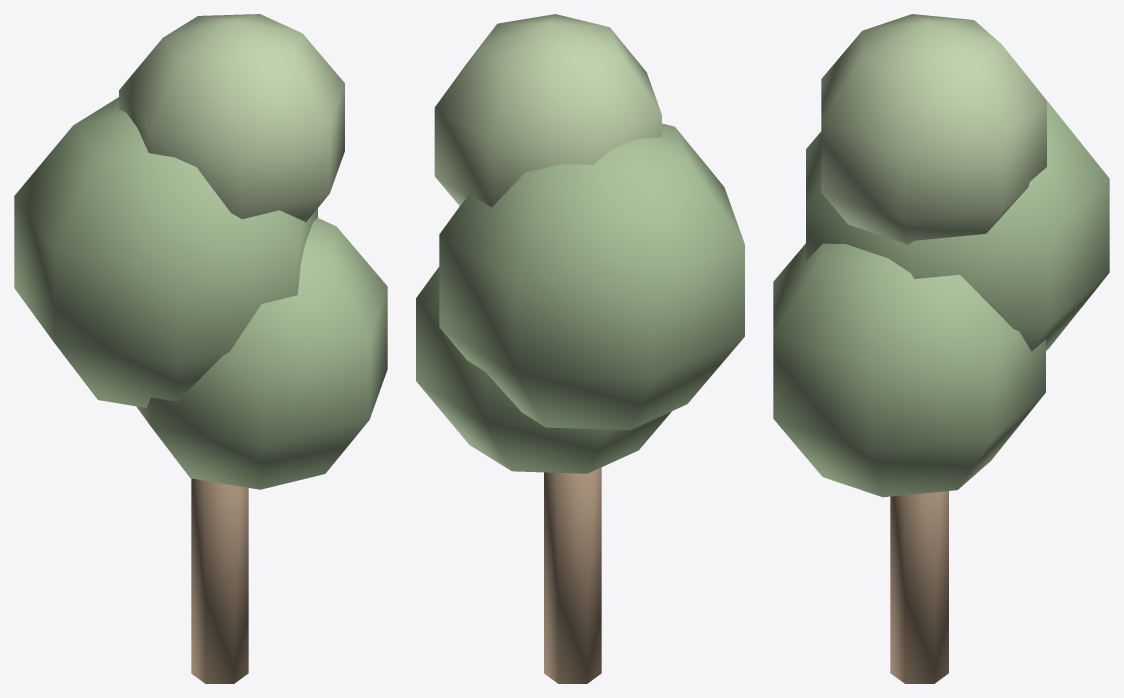
The model's file is tree.glb.
The picture shows the model from 3 angles, left to right: view 1: azimuth 30°, elevation 25°; view 2: azimuth 150°, elevation 25°; view 3: azimuth 270°, elevation 25°; orthographic projection. The views are drawn at different scales.
Parts seen in each view (by area): view 1: tree_leaf, tree_leaf-light, tree_bark; view 2: tree_leaf, tree_leaf-light, tree_bark; view 3: tree_leaf, tree_leaf-light, tree_bark.
Part boxes in pixels (x1,y1,x2,y2): tree_leaf: (14, 97, 387, 489); tree_leaf-light: (119, 14, 344, 222); tree_bark: (191, 478, 248, 683); tree_leaf: (416, 123, 744, 473); tree_leaf-light: (434, 14, 661, 207); tree_bark: (544, 467, 601, 683); tree_leaf: (773, 101, 1109, 497); tree_leaf-light: (821, 14, 1046, 244); tree_bark: (890, 491, 948, 683).
Bounding box in the file's own units: 1.43 × 2.82 × 1.3.
